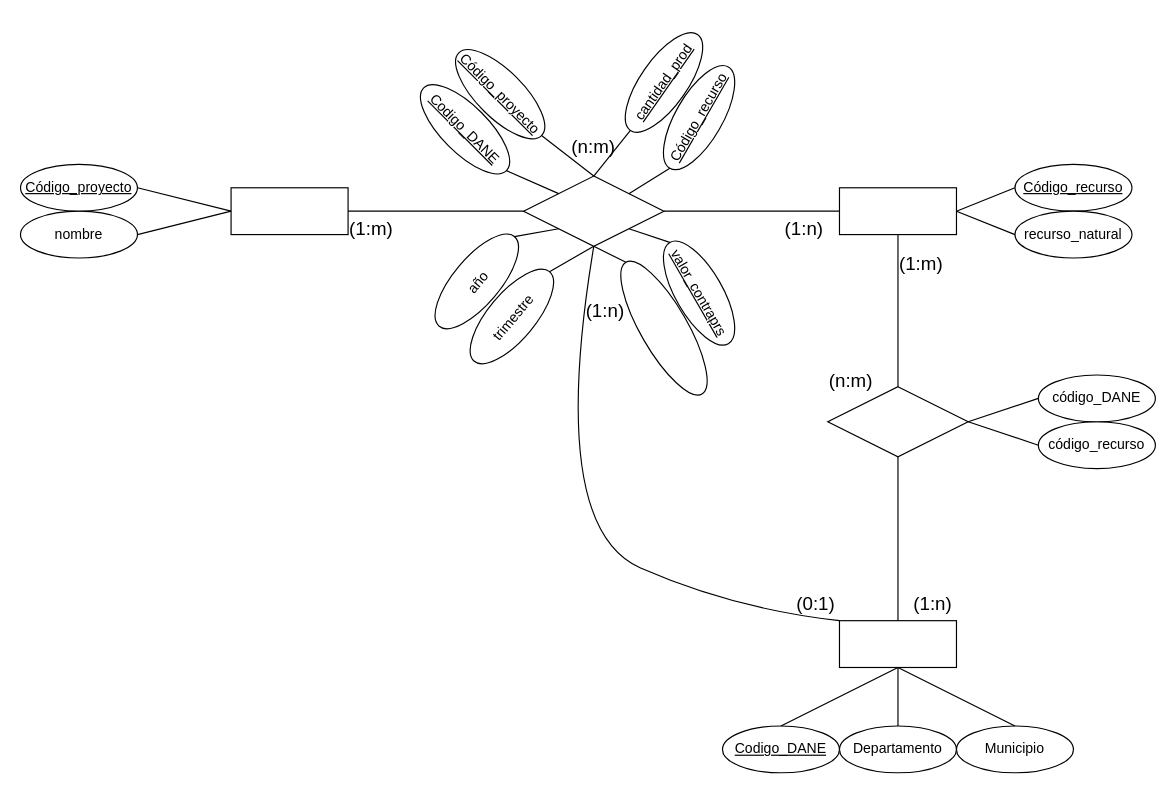
This 1176x793 diagram has some shape labels left out. Here are the shapes that lost their labels. From the top down, the box of each, then its label:
(230, 187, 348, 235): Proyecto
(522, 175, 664, 246): Explota
(838, 187, 956, 235): Recurso
(604, 249, 722, 406): tipo_contraprestacion
(827, 386, 968, 457): Ciudad_recurso
(838, 620, 956, 667): Ciudad
